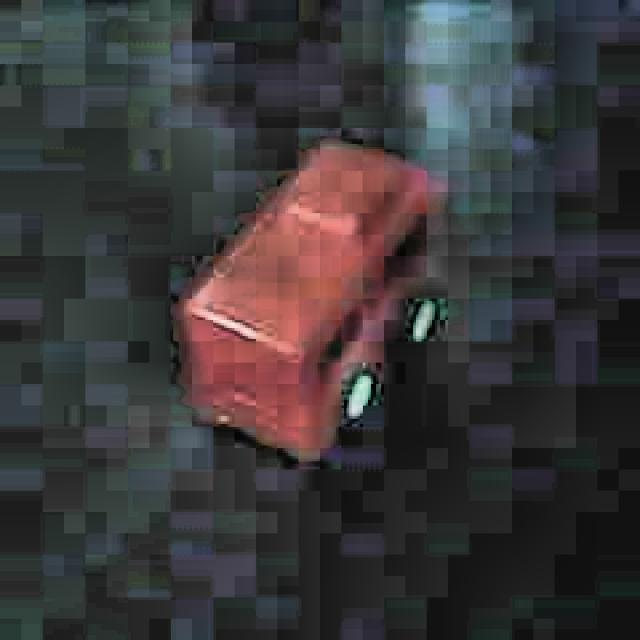bus: (172, 135, 449, 465)
